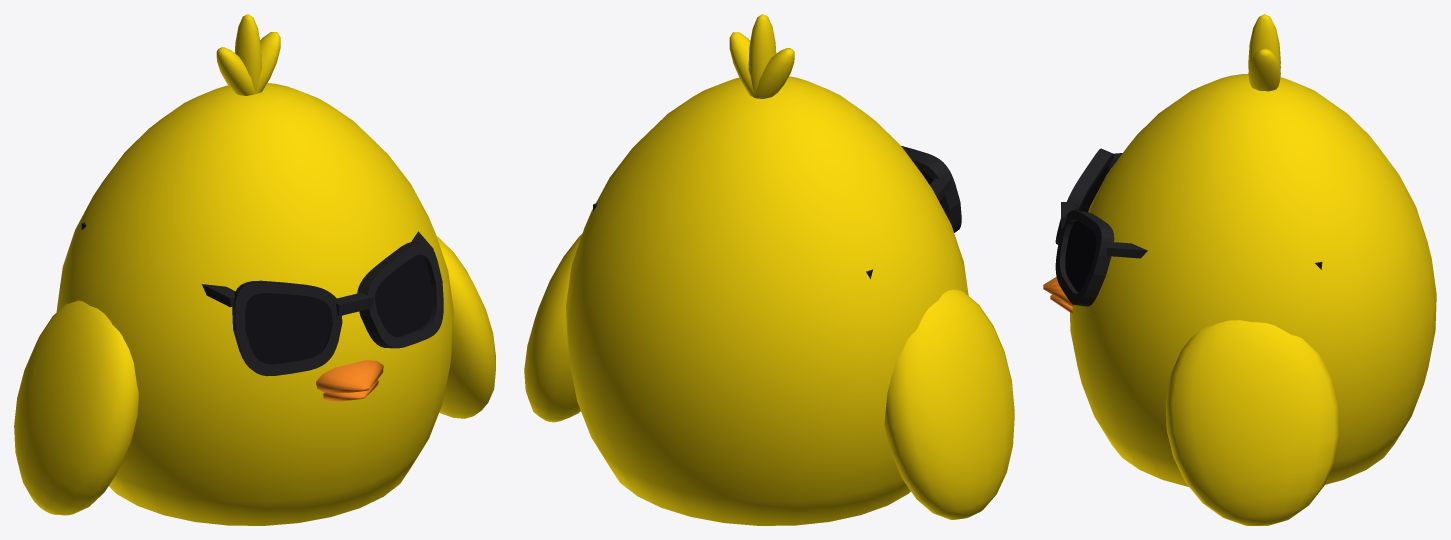
File: chick.glb
The picture shows the model from 3 angles, left to right: view 1: azimuth 30°, elevation 25°; view 2: azimuth 150°, elevation 25°; view 3: azimuth 270°, elevation 25°; orthographic projection. The views are drawn at different scales.
Visible parts, largest first — view 1: ChickBody, ChickWing_L, ChickWing_R, ChickLens_-1, ChickFrame_-1, ChickFrame_1, ChickLens_1, ChickBeakTop, ChickTuft_1, ChickTuft_0, ChickTuft_2, ChickBridge; view 2: ChickBody, ChickWing_L, ChickWing_R, ChickFrame_-1, ChickTuft_1, ChickTuft_0, ChickTuft_2; view 3: ChickBody, ChickWing_R, ChickFrame_1, ChickLens_1, ChickFrame_-1, ChickTuft_2, ChickTuft_1, ChickArm_1.
Part boxes in pixels (box(x1,y1,x2,y2)): ChickBody: box(56, 83, 453, 525); ChickWing_L: box(14, 300, 138, 515); ChickWing_R: box(436, 236, 495, 418); ChickLens_-1: box(245, 293, 331, 364); ChickFrame_-1: box(232, 280, 342, 376); ChickFrame_1: box(357, 242, 443, 348); ChickLens_1: box(375, 255, 432, 336); ChickBeakTop: box(316, 360, 383, 392); ChickTuft_1: box(234, 14, 261, 93); ChickTuft_0: box(216, 47, 255, 95); ChickTuft_2: box(256, 32, 280, 93); ChickBridge: box(336, 292, 373, 316); ChickBody: box(566, 76, 968, 525); ChickWing_L: box(884, 289, 1014, 519); ChickWing_R: box(524, 233, 582, 422); ChickFrame_-1: box(901, 146, 961, 232); ChickTuft_1: box(748, 14, 776, 98); ChickTuft_0: box(753, 48, 794, 98); ChickTuft_2: box(729, 32, 757, 98); ChickBody: box(1070, 74, 1436, 486); ChickWing_R: box(1165, 320, 1340, 525); ChickFrame_1: box(1055, 210, 1114, 306); ChickLens_1: box(1065, 220, 1096, 292); ChickFrame_-1: box(1055, 148, 1114, 244); ChickTuft_2: box(1248, 48, 1280, 91); ChickTuft_1: box(1248, 14, 1280, 69); ChickArm_1: box(1106, 242, 1322, 269).
Bounding box in the file's own units: 0.4138 × 0.3996 × 0.338.
